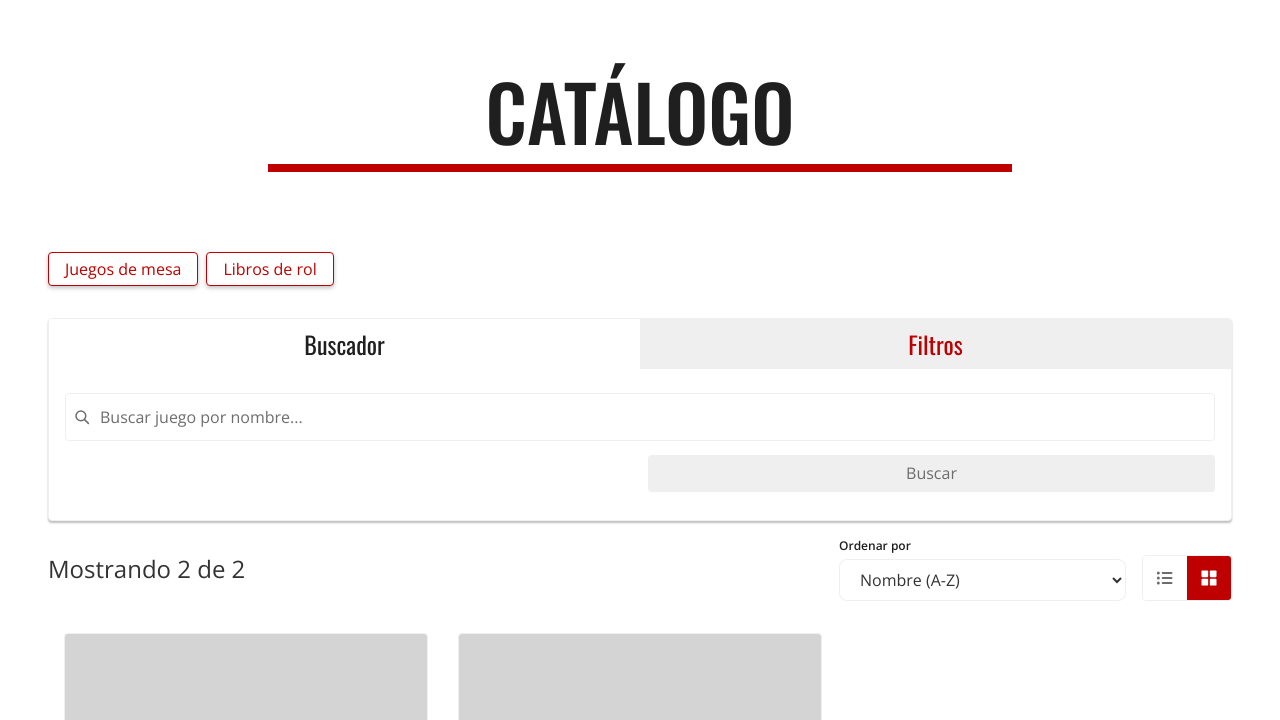
Scenario: CatalogPage filter chips › combines search and filters and removes each condition independently
The width and height of the screenshot is (1280, 720).
Type "catan" into the field labelled "Buscar juego por nombre..." at (640, 417), box [65, 393, 1215, 441]
Wait 350 ms
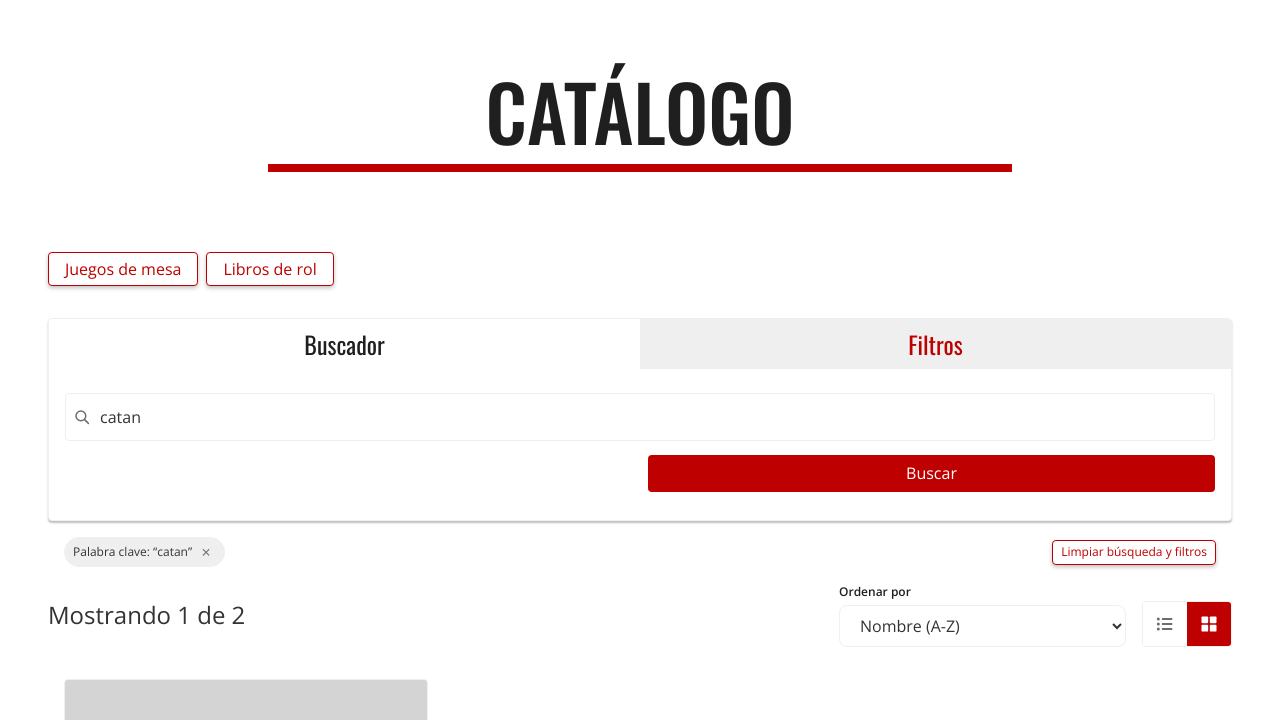
Click the tab "Filtros" at (936, 344), box [640, 319, 1231, 369]
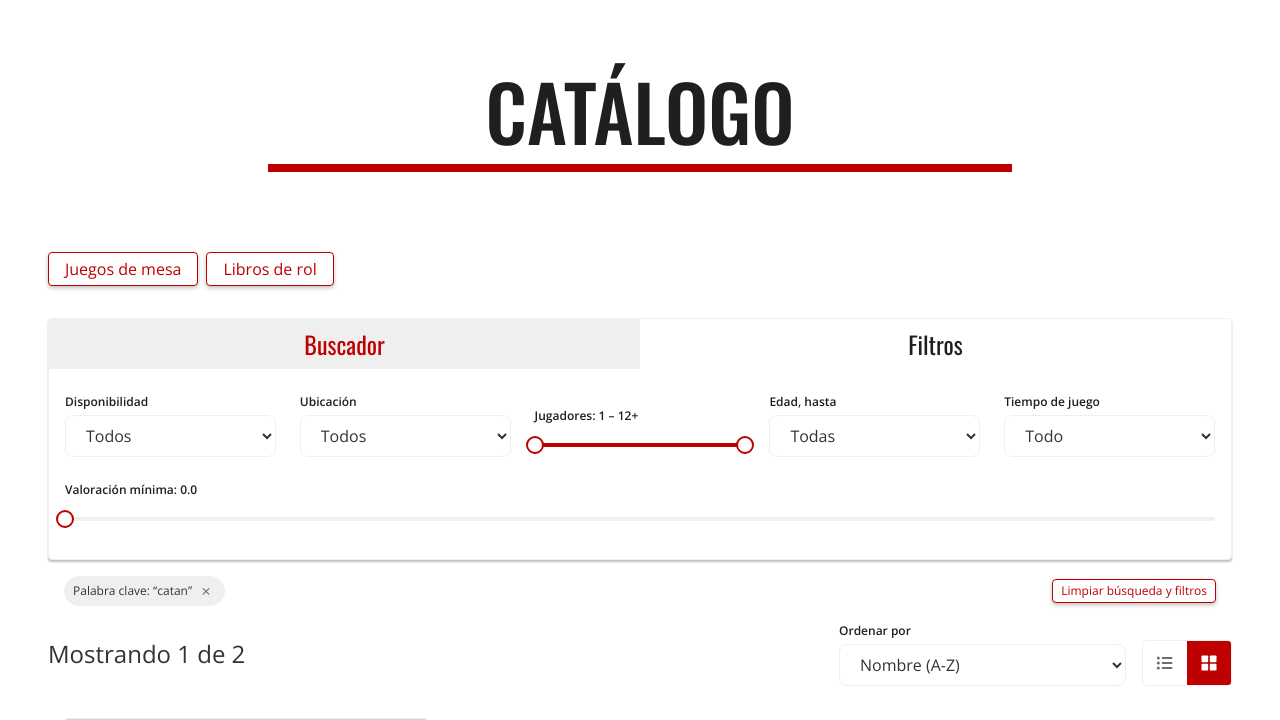
Select "Disponible" in the dropdown labelled "Disponibilidad" at (170, 436), box [65, 415, 276, 457]
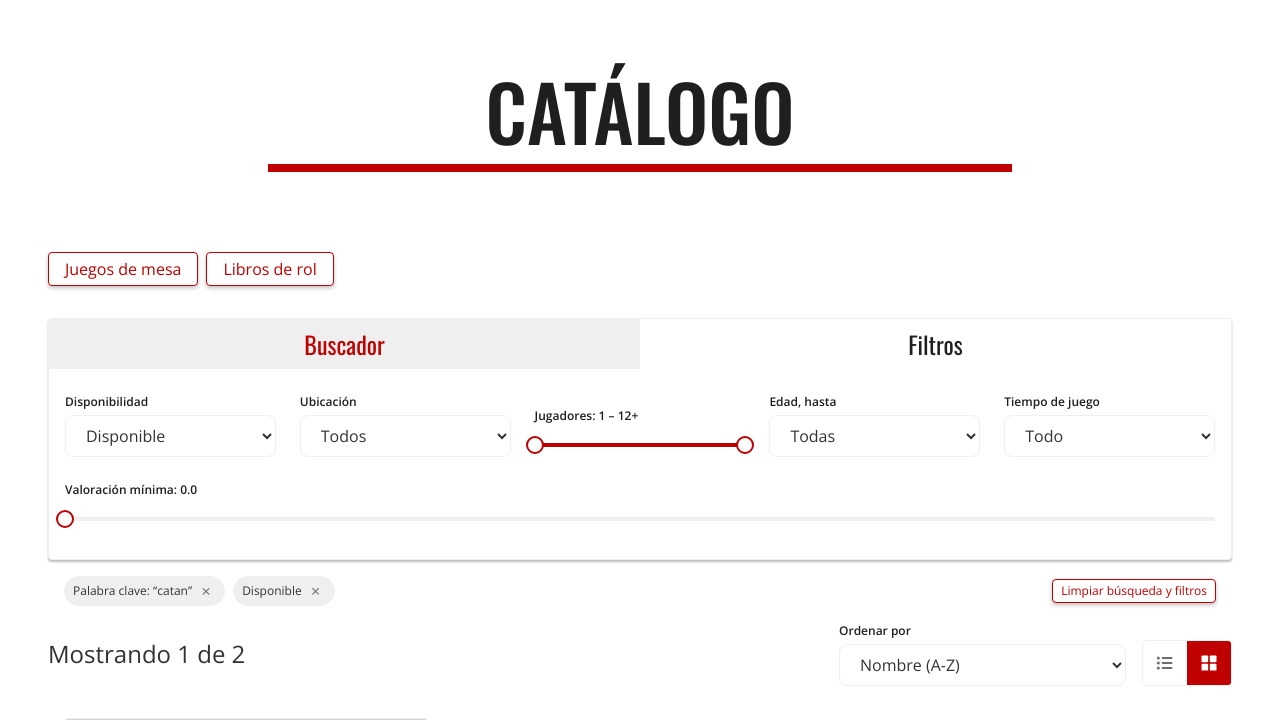
Result: the text "Mostrando 1 de 2" is shown at [48, 636, 245, 672]
Result: the text "Palabra clave: “catan”" is shown at [73, 582, 192, 600]
Result: the text "Disponible" is shown at [242, 582, 302, 600]
Click the button named "Quitar filtro" at (206, 591), box [196, 581, 216, 601]
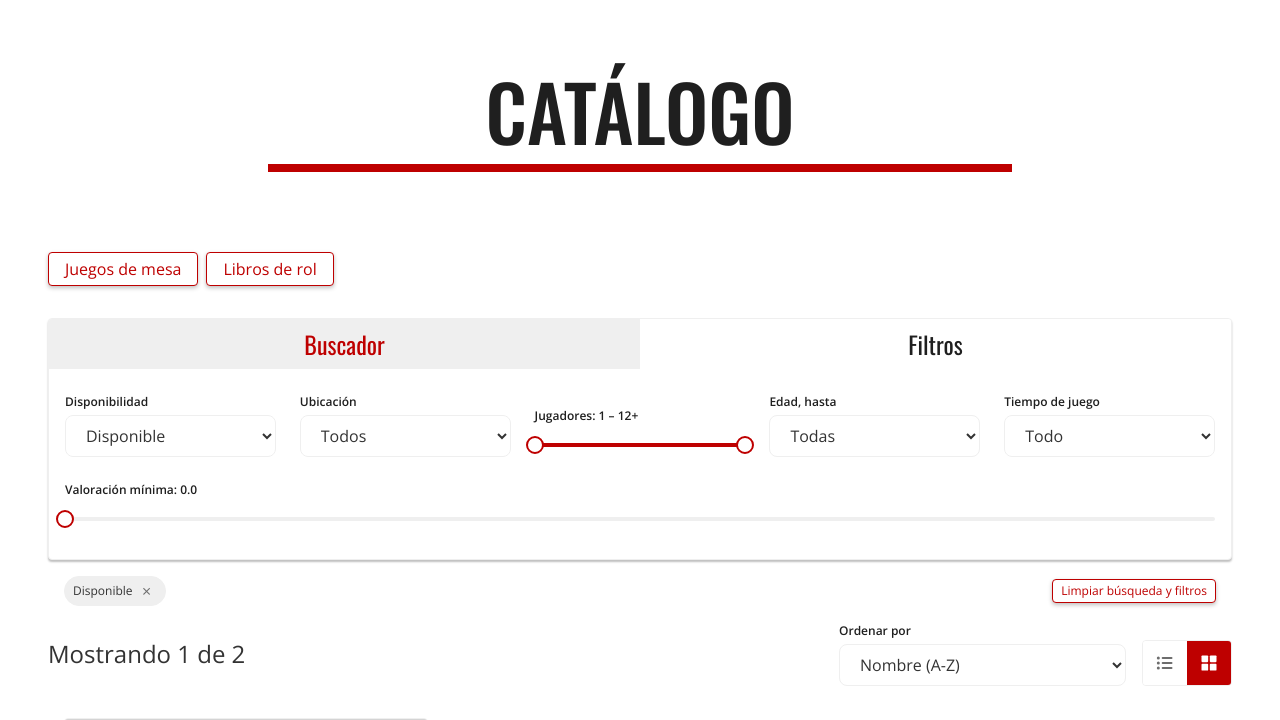
Result: the text "Disponible" is shown at [73, 582, 132, 600]
Result: the text "Palabra clave: “catan”" is gone
